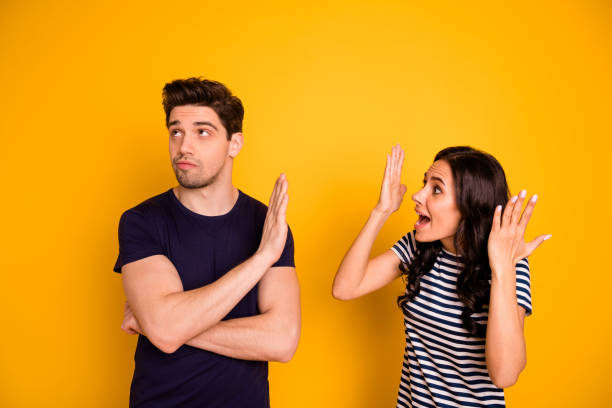without mask: (394, 142, 478, 253), (155, 89, 239, 200)
